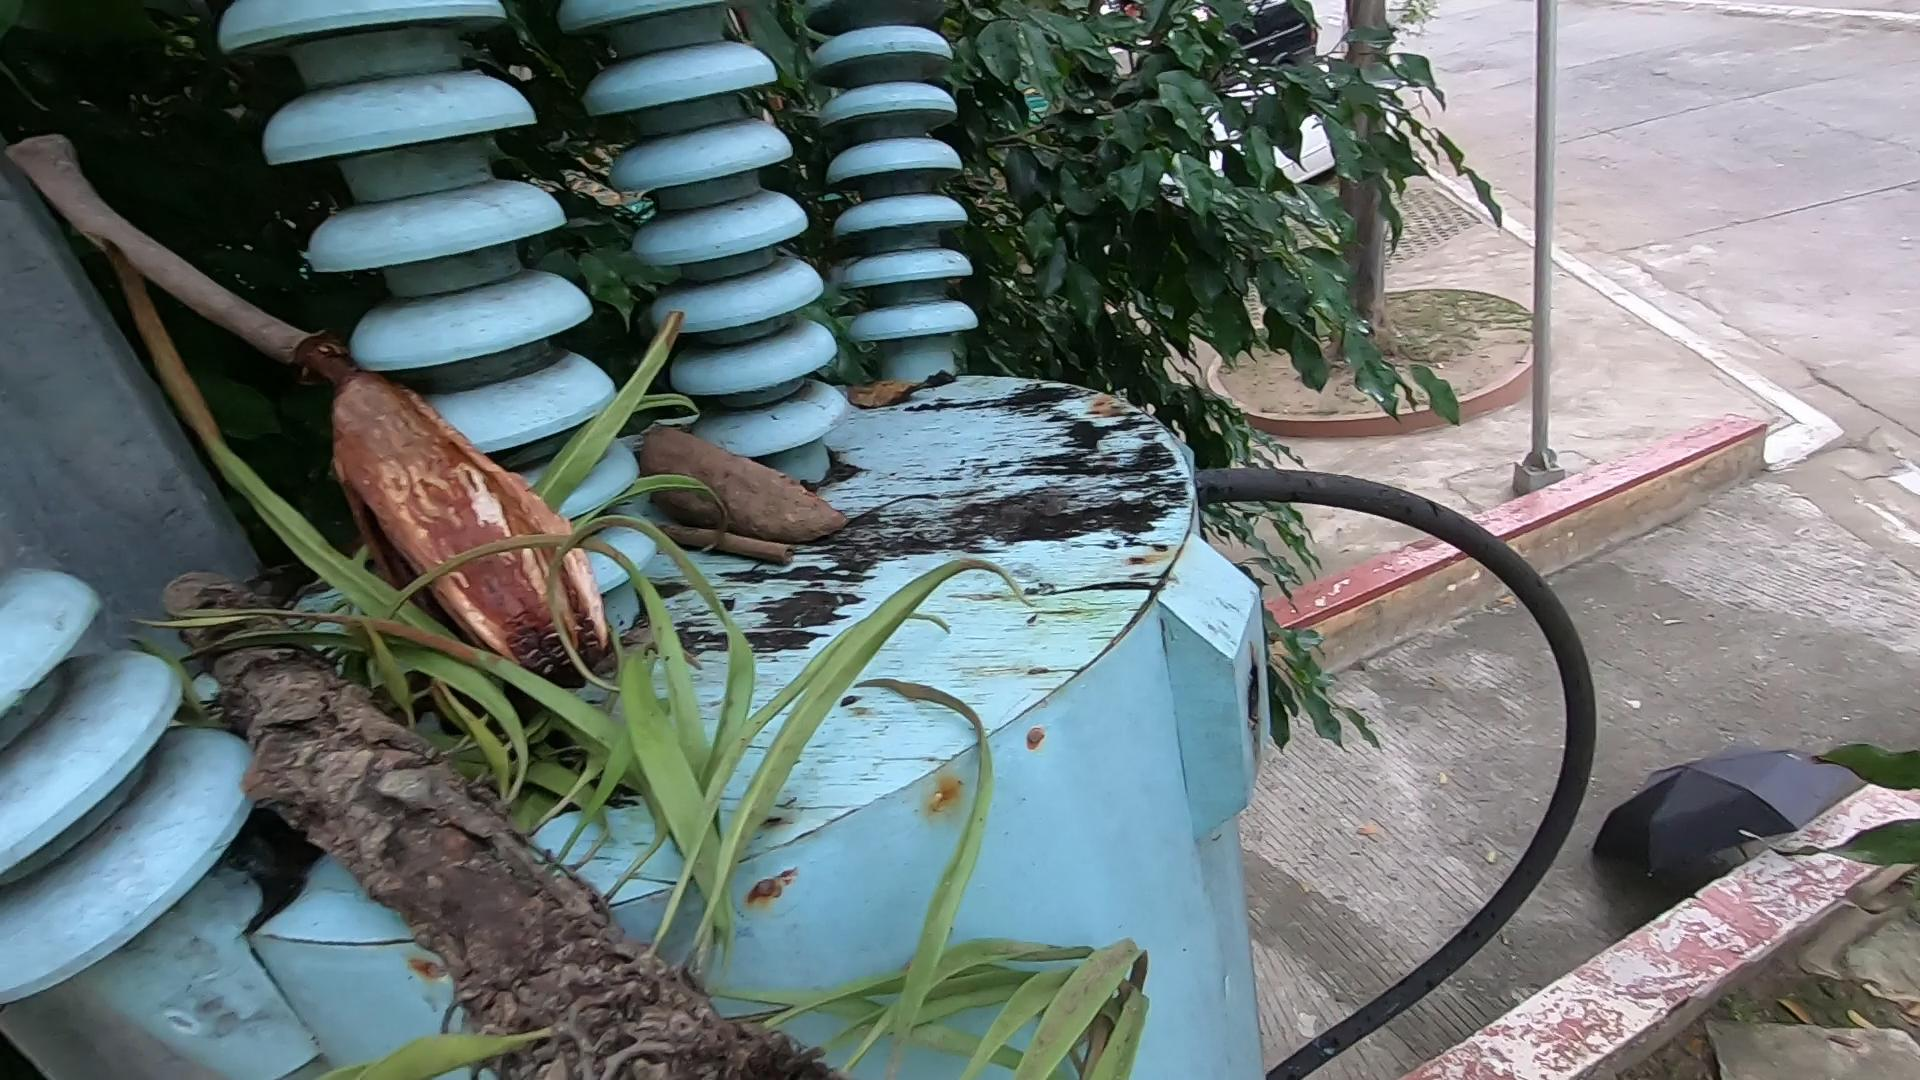branch with leaves: (113, 556, 1127, 1069)
leaf: (841, 363, 972, 440)
mahogany fruit: (301, 388, 666, 686), (644, 392, 891, 560)
tree branch: (11, 121, 301, 415), (644, 488, 843, 580)
